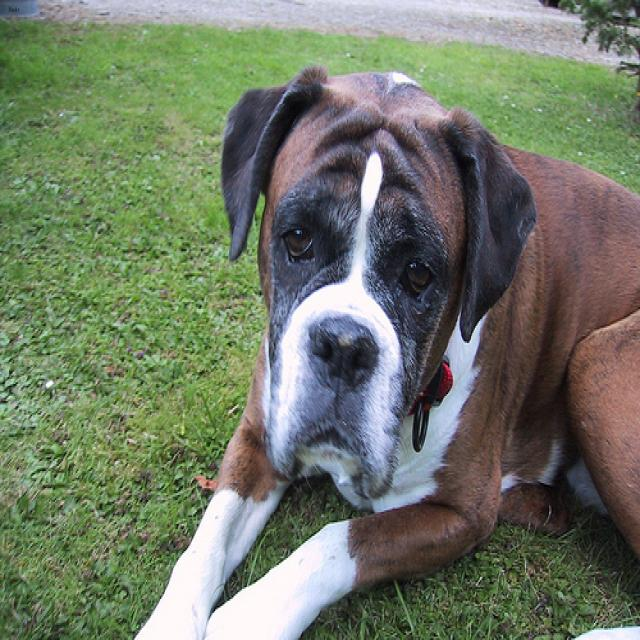dog-boxer: (125, 60, 637, 637)
